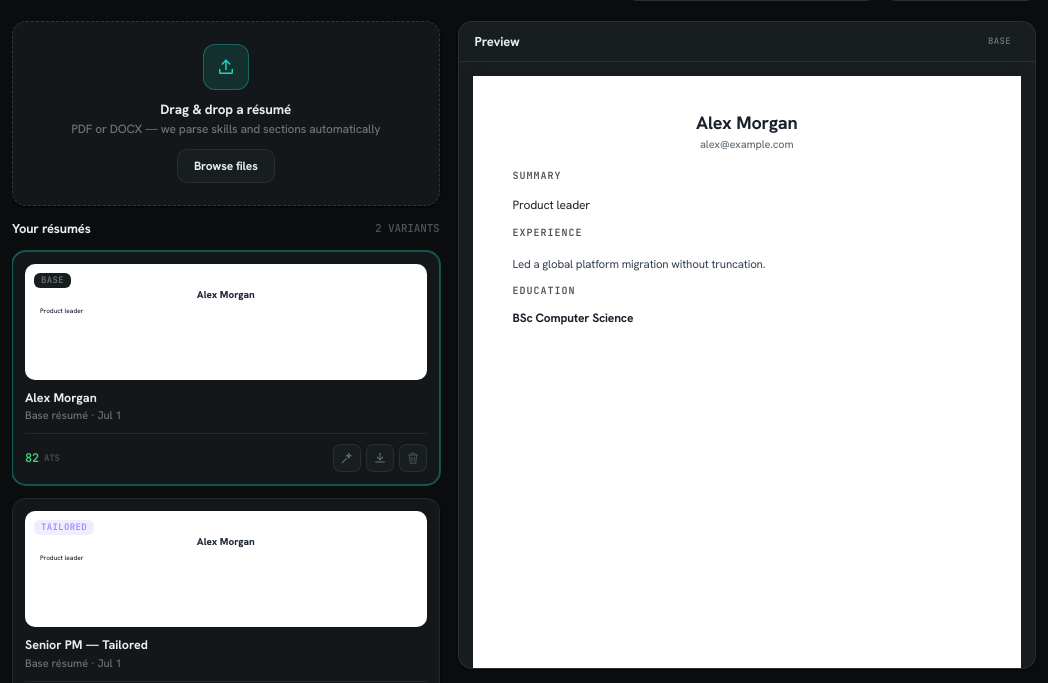
Test: ResumesPage › updates the preview panel when a different résumé card is selected
This screenshot has width=1048, height=683.
Expected: the text "Senior PM — Tailored" is shown, top-left (25, 636), bottom-right (148, 654)
Click the button with aria-label "select résumé senior pm" at (226, 591), box top-left (25, 512), bottom-right (426, 670)
(page scrolled)
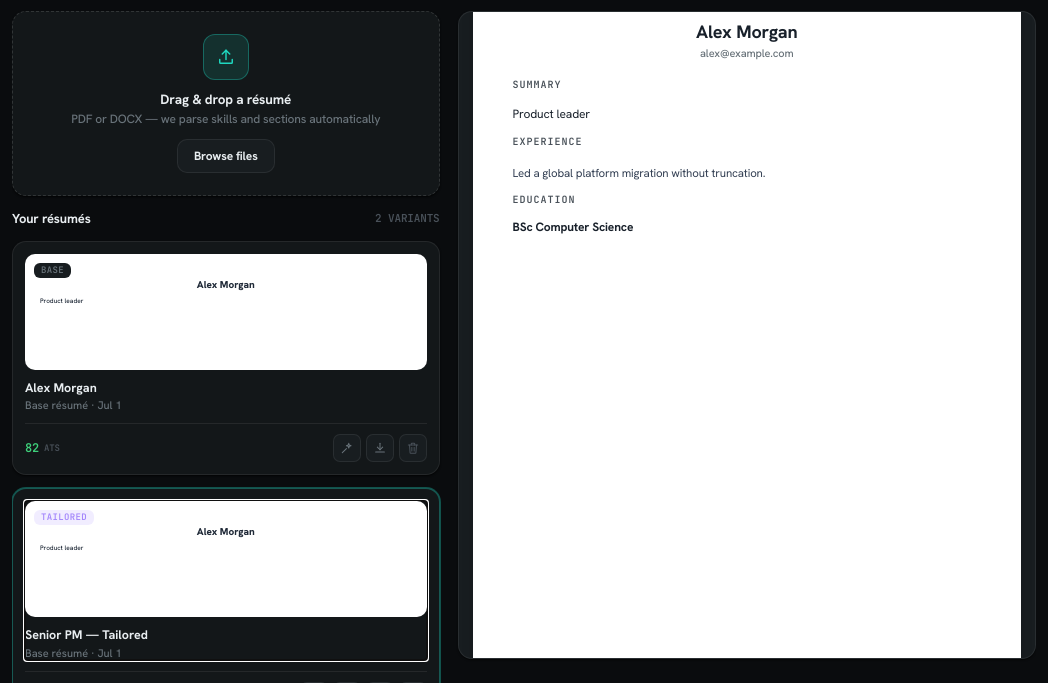
Now the element named "full résumé preview for senior pm — tailored" is shown, box top-left (472, 11), bottom-right (1021, 659)
